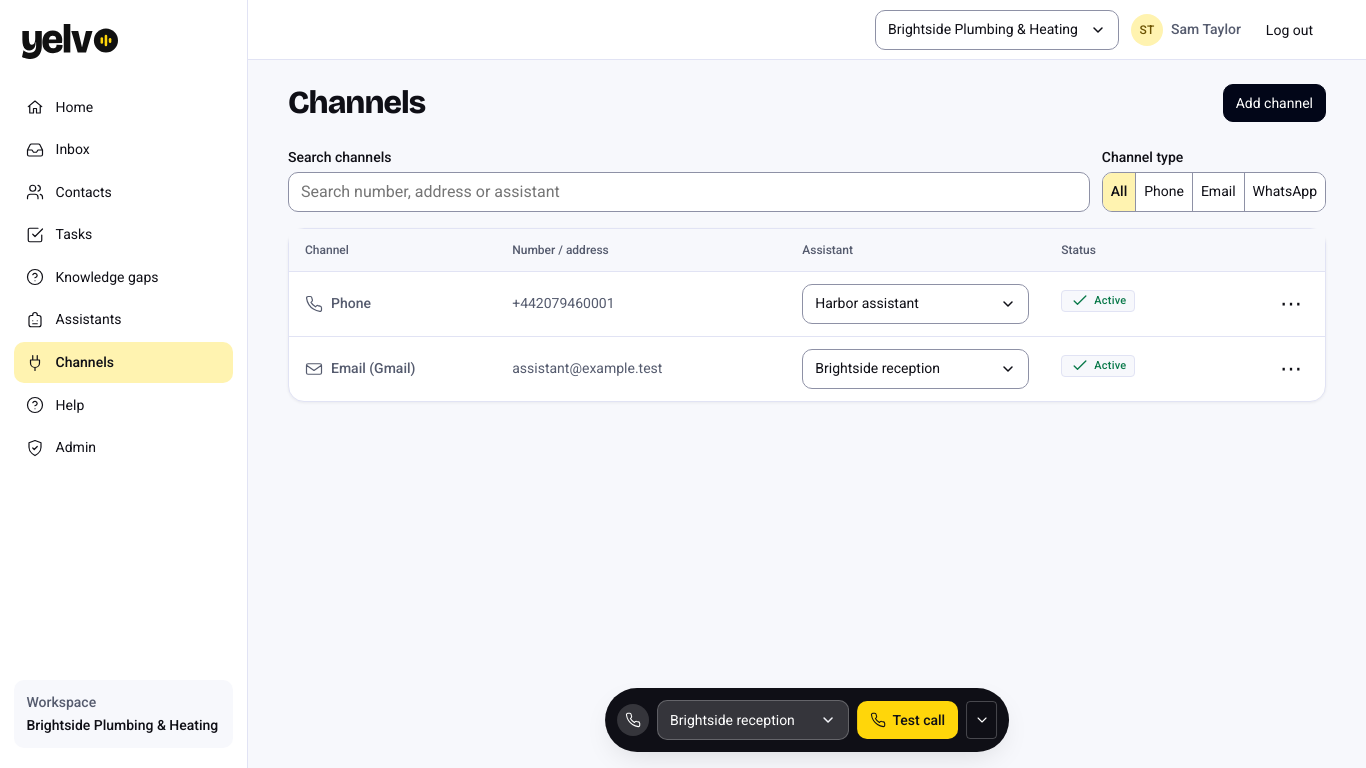
workspace Channels page › removes a channel after confirmation
Check: the text "assistant@example.test" is shown, box [512,360,662,376]
What coordinates should you click on to do the following:
click the button "⋯" in the row of "Email (Gmail)"
I would click on:
 (1291, 369)
Its box is [1273,350,1309,388].
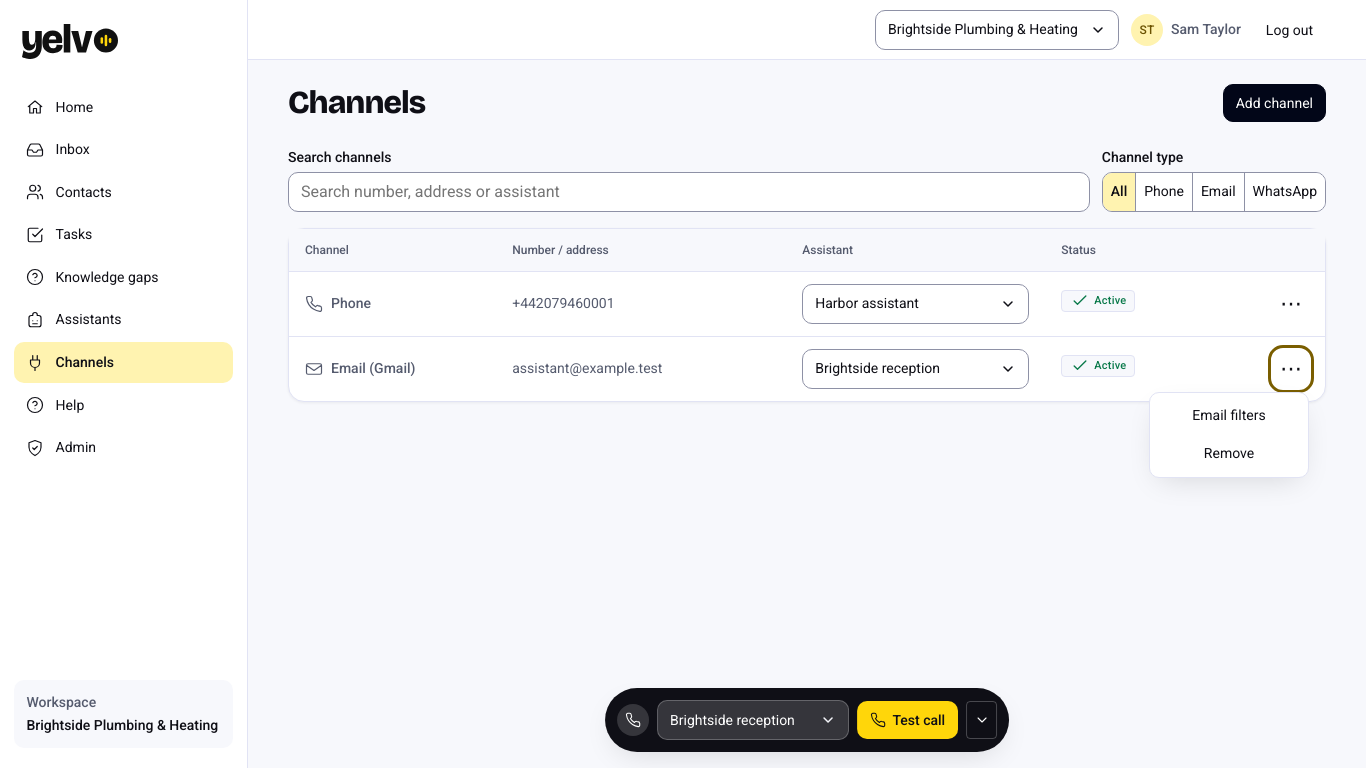
What coordinates should you click on to do the following:
click the menu item "Remove"
I would click on:
 (1229, 454)
Its box is [1154,435,1304,473].
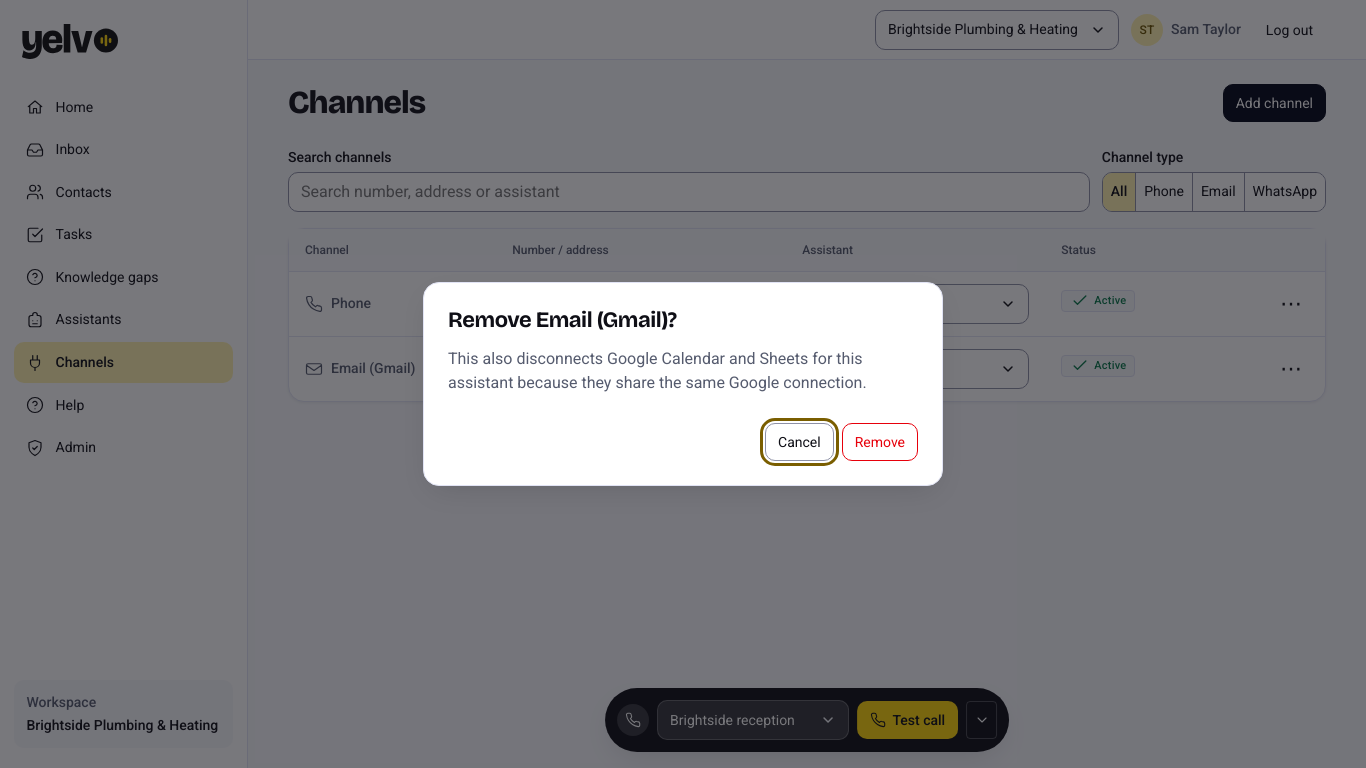
Check: the dialog shows "Google Calendar and Sheets", box [448,349,867,392]
What coordinates should you click on to do the following:
click the button "Remove"
I would click on:
 (880, 442)
Its box is [842,423,918,461].
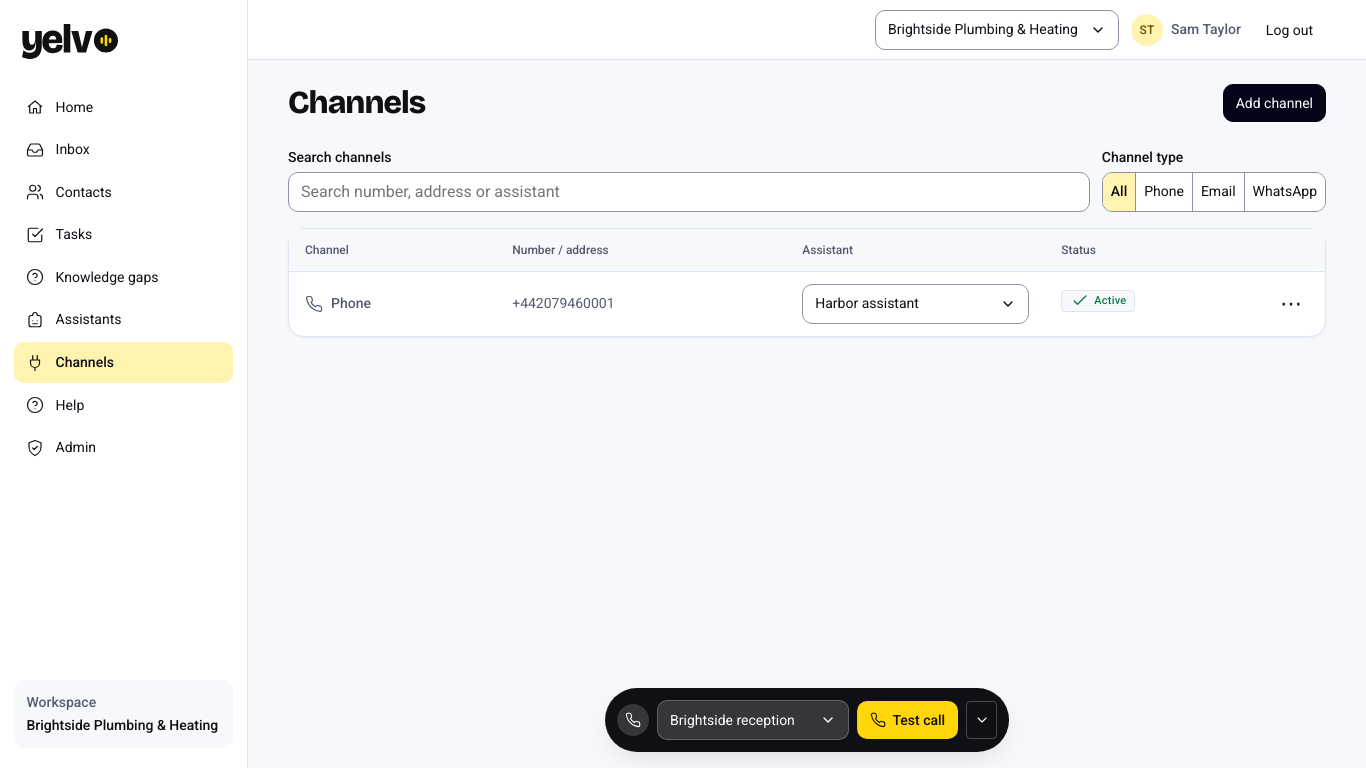
Check: the text "assistant@example.test" is gone
